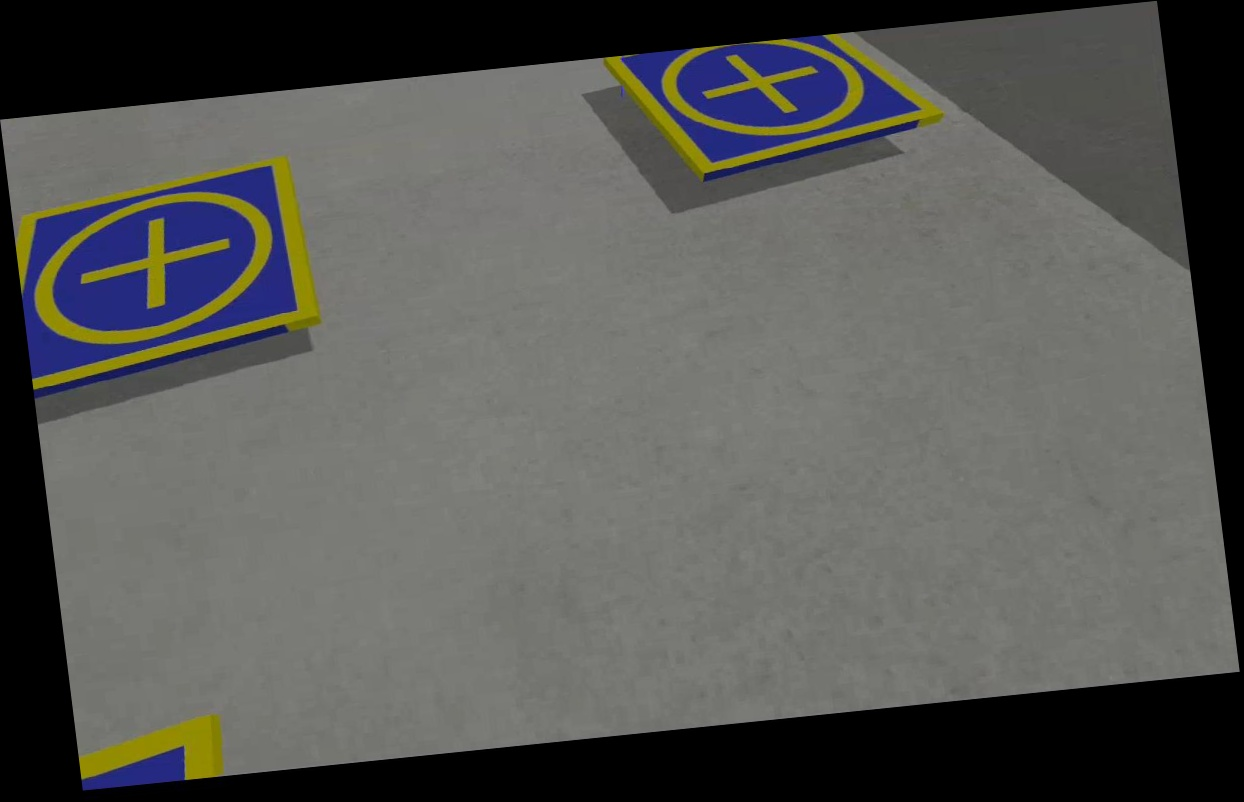small_base: (8, 157, 324, 397), (603, 23, 953, 194)
